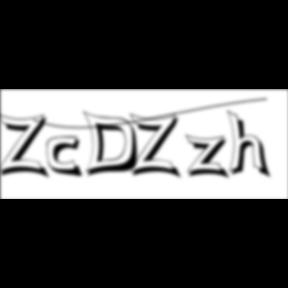D: (82, 110, 145, 180)
Z: (0, 112, 54, 181), (130, 112, 184, 181)
c: (47, 136, 87, 180)
h: (226, 108, 274, 182)
z: (186, 134, 234, 182)
